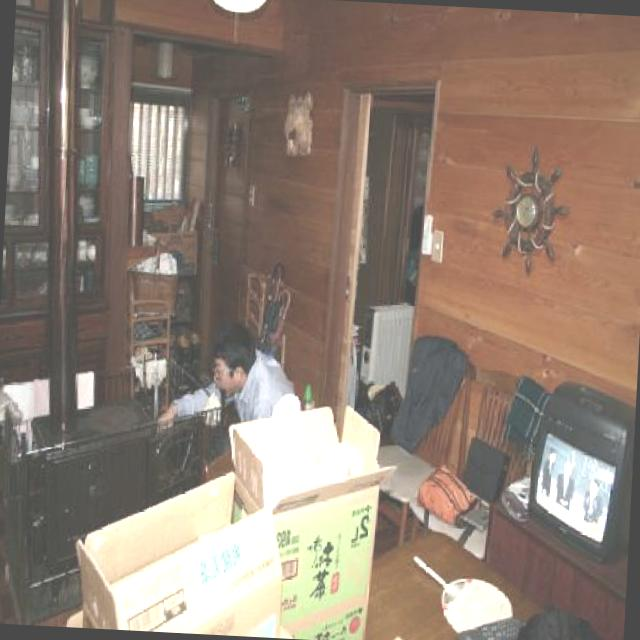Person: (158, 316, 298, 427), (554, 460, 577, 512), (582, 476, 604, 522)
